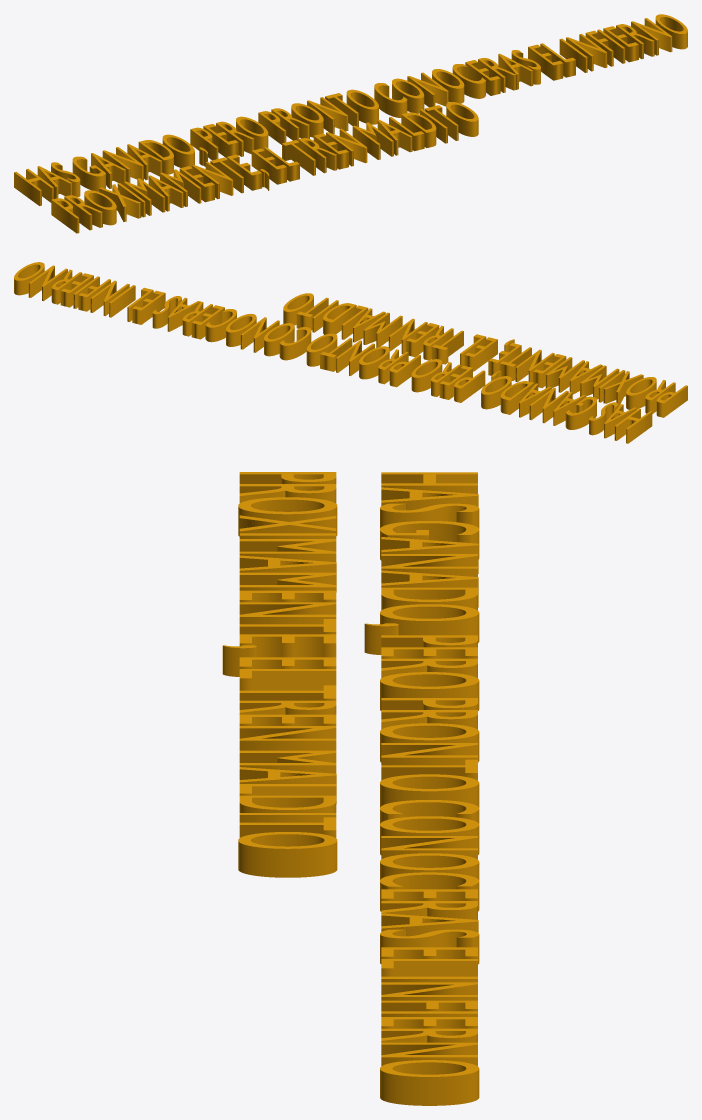
File: WIN.fbx
3 renders of one model, top to bottom at view 1: azimuth 30°, elevation 25°; view 2: azimuth 150°, elevation 25°; view 3: azimuth 270°, elevation 25°, orthographic. The views are drawn at different scales.
Visible parts, largest first — view 1: Text; view 2: Text; view 3: Text.
Boxes of the visible parts, left/top/right/bottom form: Text: left=14, top=14, right=687, bottom=233; Text: left=14, top=262, right=687, bottom=443; Text: left=222, top=472, right=479, bottom=1105.
Size of the model in its own units: 5213 by 116 by 934.
